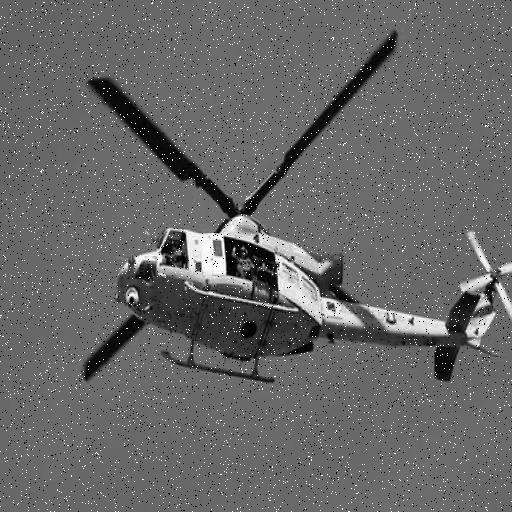helicopter: (87, 28, 512, 424)
